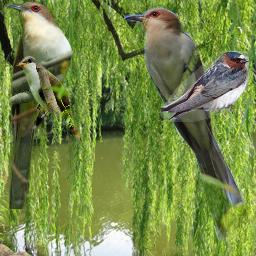Cuckoo: (124, 7, 248, 242), (4, 0, 75, 209), (14, 56, 86, 143)
Swallow: (161, 51, 249, 122)
